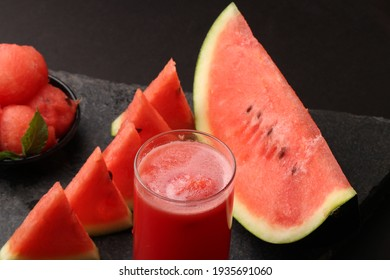Semangka: (183, 17, 351, 248), (1, 177, 94, 268), (102, 63, 200, 139), (60, 152, 132, 225), (115, 98, 169, 142)
